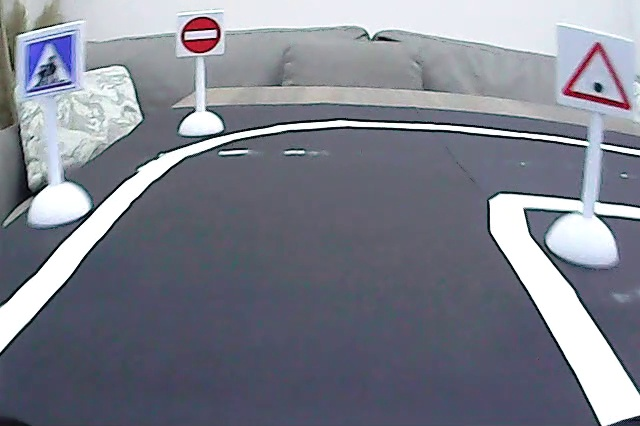do not enter: (178, 15, 222, 56)
green light: (562, 32, 635, 114)
school crossing: (20, 32, 81, 98)
